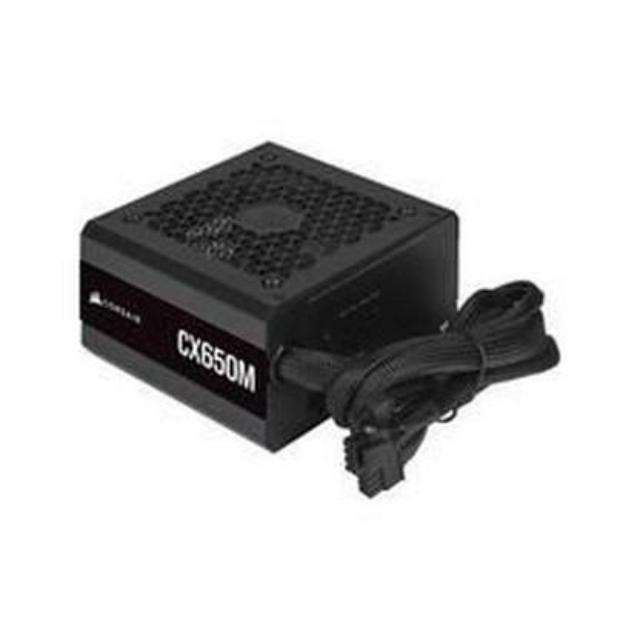PSU: (87, 140, 462, 477)
